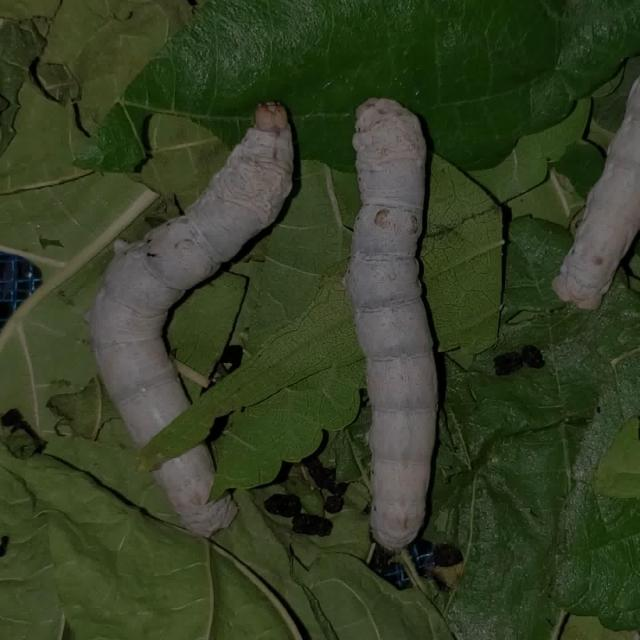Healthy: (82, 83, 309, 544), (329, 90, 453, 557)
